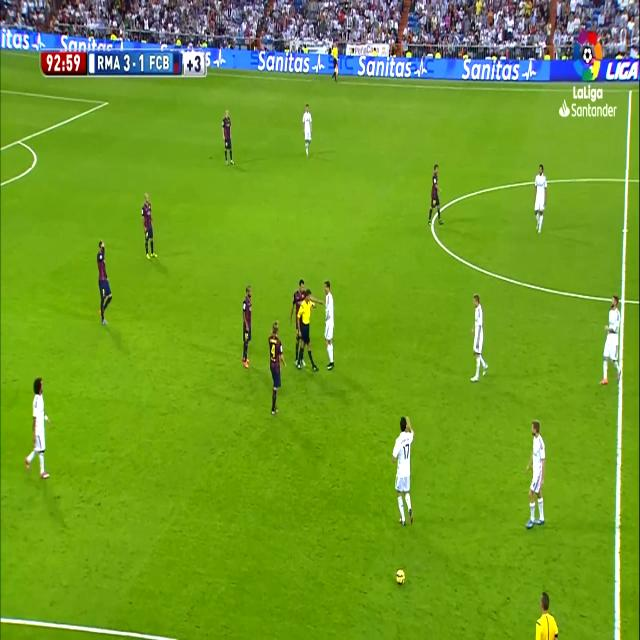bigarea_bottom_outter: (16, 132, 24, 148)
halfcircle_bottom: (618, 285, 630, 313)
halfcircle_top: (622, 164, 632, 192)
top_arc_area_intersection: (16, 132, 24, 148)
